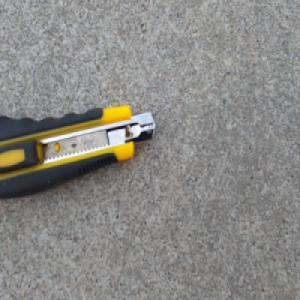Cutter: (0, 103, 156, 200)
